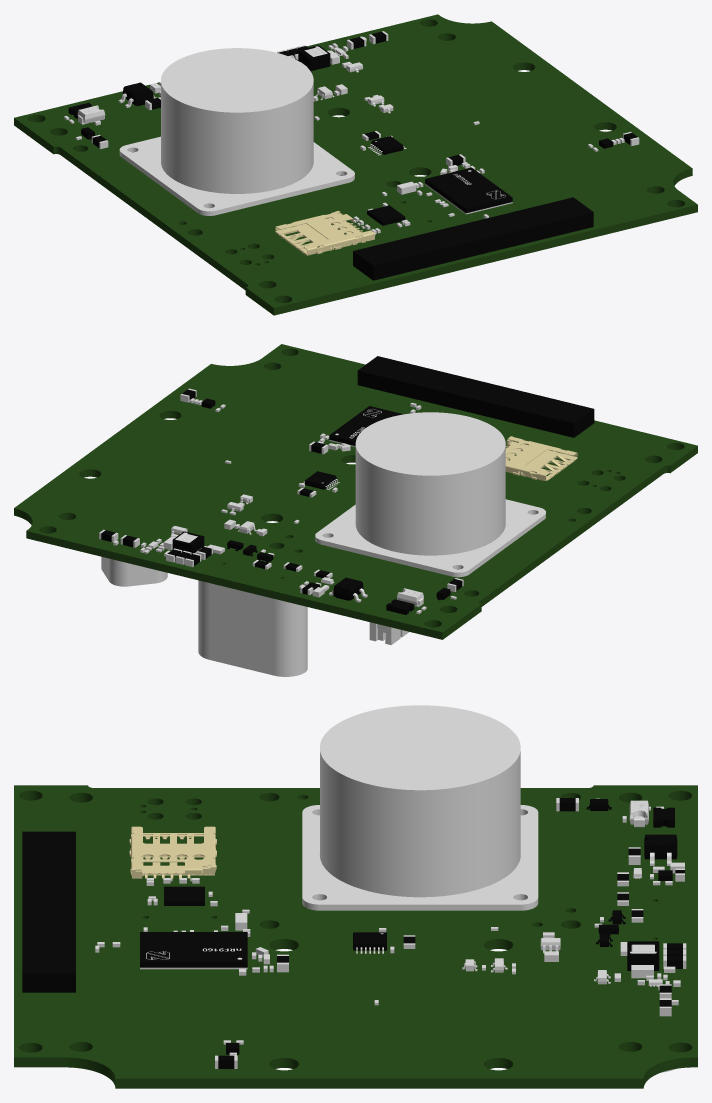
The picture shows the model from 3 angles, top to bottom: view 1: azimuth 30°, elevation 25°; view 2: azimuth 150°, elevation 25°; view 3: azimuth 270°, elevation 25°; orthographic projection. The views are drawn at different scales.
Visible parts, largest first — view 1: Open CASCADE STEP translator 7.5 1.1.002, Extruded.420, Extruded.243, MEC_480A_Linse_Hyperbolic_RGB8421504, Open CASCADE STEP translator 7.5 1.82.1.1, nRF9160_v5, Extruded.245, SRR4828A_RGB8421504.005, MBS-2_TO-269AA.001; view 2: Open CASCADE STEP translator 7.5 1.1.002, Extruded.420, Extruded.419, Extruded.243, MEC_480A_Linse_Hyperbolic_RGB8421504, Open CASCADE STEP translator 7.5 1.82.1.1, SUMIDA-CDRH127_L125_RGB8421504.006, nRF9160_v5, B2B-PH-SM4-TB; view 3: Open CASCADE STEP translator 7.5 1.1.002, Extruded.420, Extruded.243, MEC_480A_Linse_Hyperbolic_RGB8421504, nRF9160_v5, Open CASCADE STEP translator 7.5 1.82.1.1, Extruded.245, MBS-2_TO-269AA.001, Open CASCADE STEP translator 6.8 2.2.1, SRR4828A_RGB8421504.005.
Boxes of the visible parts, x1,y1,x2,y2 form: Open CASCADE STEP translator 7.5 1.1.002: (14,14,697,315); Extruded.420: (161,48,313,193); Extruded.243: (353,197,593,280); MEC_480A_Linse_Hyperbolic_RGB8421504: (119,136,354,215); Open CASCADE STEP translator 7.5 1.82.1.1: (275,210,375,255); nRF9160_v5: (425,167,512,213); Extruded.245: (367,205,405,225); SRR4828A_RGB8421504.005: (298,45,330,71); MBS-2_TO-269AA.001: (123,82,153,105); Open CASCADE STEP translator 7.5 1.1.002: (14,344,697,639); Extruded.420: (355,412,505,555); Extruded.419: (198,580,307,676); Extruded.243: (357,356,594,437); MEC_480A_Linse_Hyperbolic_RGB8421504: (315,499,545,577); Open CASCADE STEP translator 7.5 1.82.1.1: (505,436,577,481); SUMIDA-CDRH127_L125_RGB8421504.006: (101,556,167,586); nRF9160_v5: (329,406,403,445); B2B-PH-SM4-TB: (369,622,408,645); Open CASCADE STEP translator 7.5 1.1.002: (14,785,697,1088); Extruded.420: (320,705,520,897); Extruded.243: (22,831,75,992); MEC_480A_Linse_Hyperbolic_RGB8421504: (302,805,538,910); nRF9160_v5: (140,932,247,967); Open CASCADE STEP translator 7.5 1.82.1.1: (129,826,216,878); Extruded.245: (164,886,204,905); MBS-2_TO-269AA.001: (644,834,677,859); Open CASCADE STEP translator 6.8 2.2.1: (353,932,386,950); SRR4828A_RGB8421504.005: (627,941,659,970).
Bounding box in the file's own units: 1.55 × 0.574 × 1.53.
